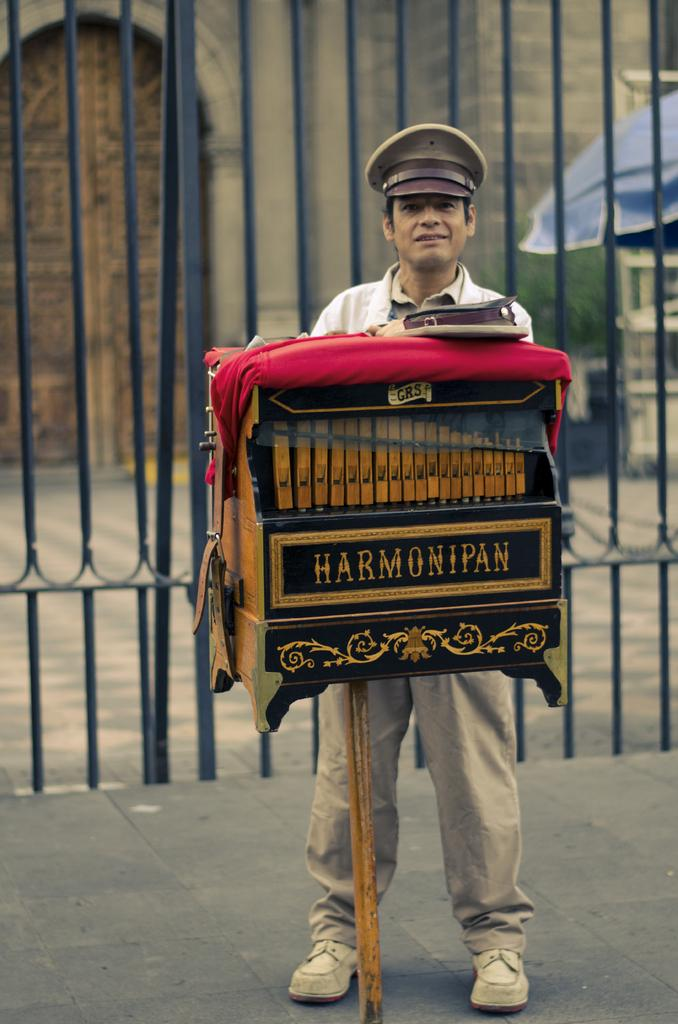Hat: (362, 122, 489, 198)
